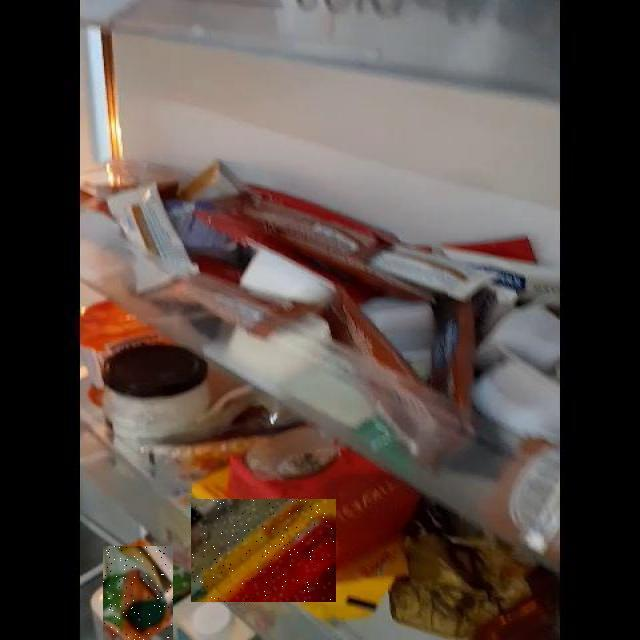Butter: (191, 499, 336, 602)
Juice: (103, 546, 173, 640)
